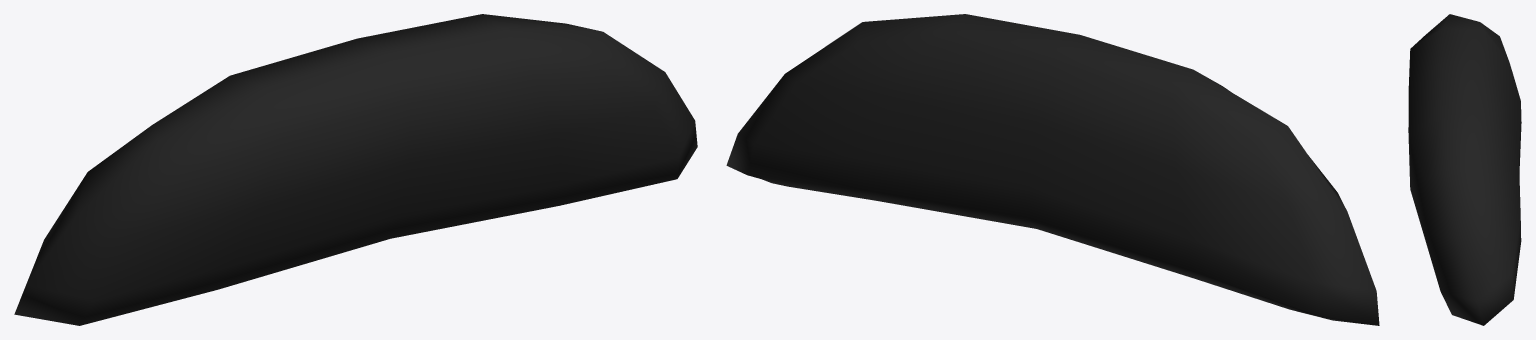
The model's file is Mustache_Black_012.glb.
The picture shows the model from 3 angles, left to right: view 1: azimuth 30°, elevation 25°; view 2: azimuth 150°, elevation 25°; view 3: azimuth 270°, elevation 25°; orthographic projection. The views are drawn at different scales.
Visible parts, largest first — view 1: Mustache_Black_012; view 2: Mustache_Black_012; view 3: Mustache_Black_012.
Part boxes in pixels (x1,y1,x2,y2): Mustache_Black_012: (14,14,697,325); Mustache_Black_012: (726,14,1379,325); Mustache_Black_012: (1408,14,1521,325).
Bounding box in the file's own units: 0.1509 × 0.0433 × 0.0302.
1 material, 1 textured.
